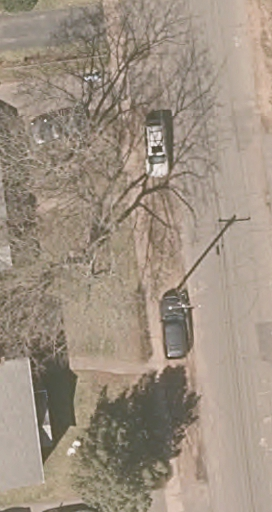DT: (167, 285, 201, 312)
